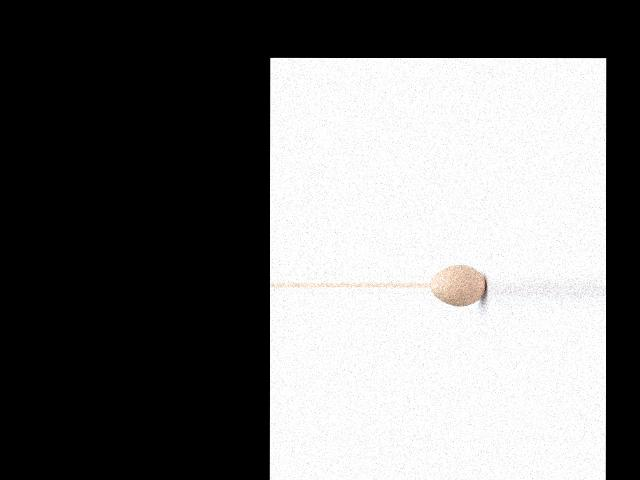egg: (430, 265, 485, 306)
